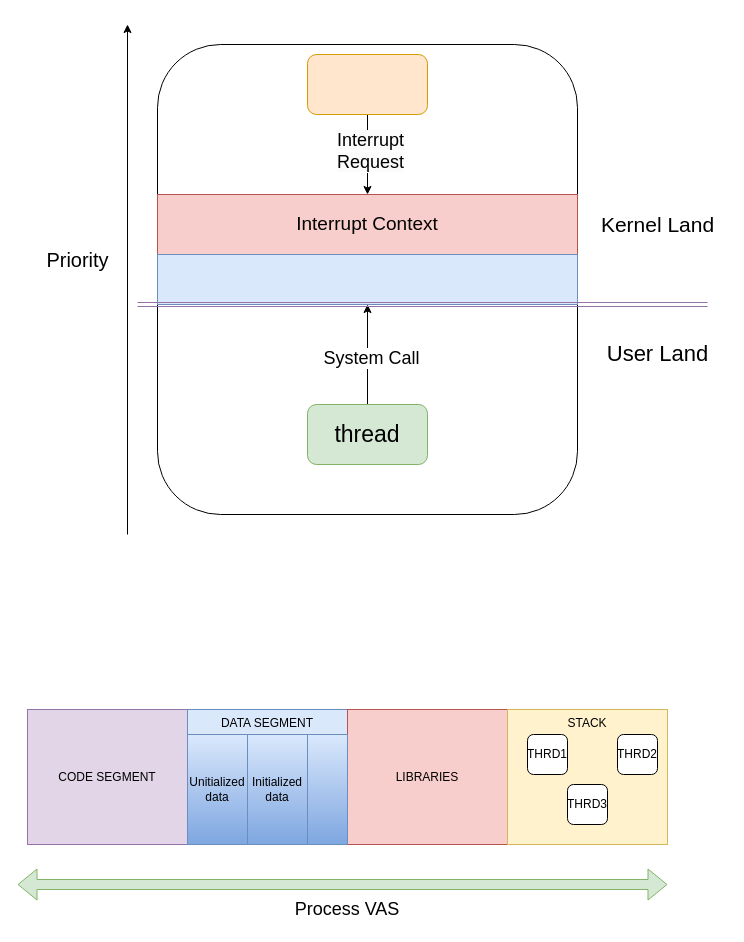
Image size: 744x942. Some labels were removed from this diagram. Here are the shapes that lost their labels. From the top down, the centre of each, then its label:
[367,84]: Hardware
[367,279]: Process Context
[327,789]: Heap
